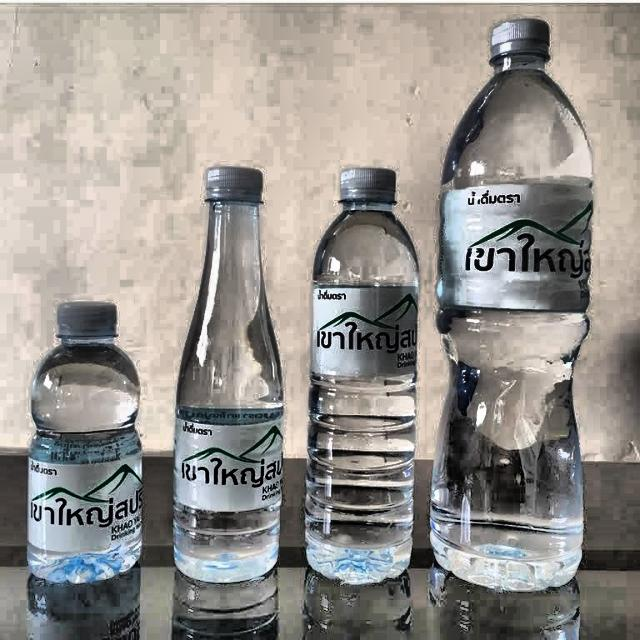Bottles: (422, 10, 598, 602), (168, 157, 294, 584), (302, 162, 420, 593), (21, 291, 148, 585)
